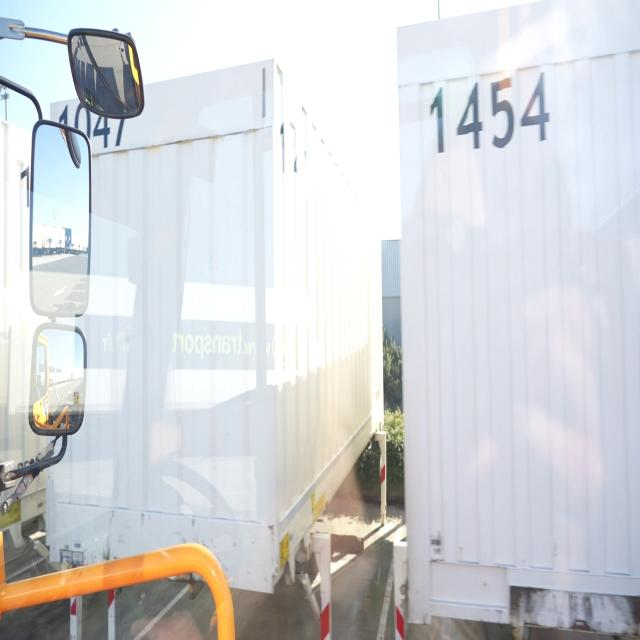Code: (429, 70, 555, 153)
